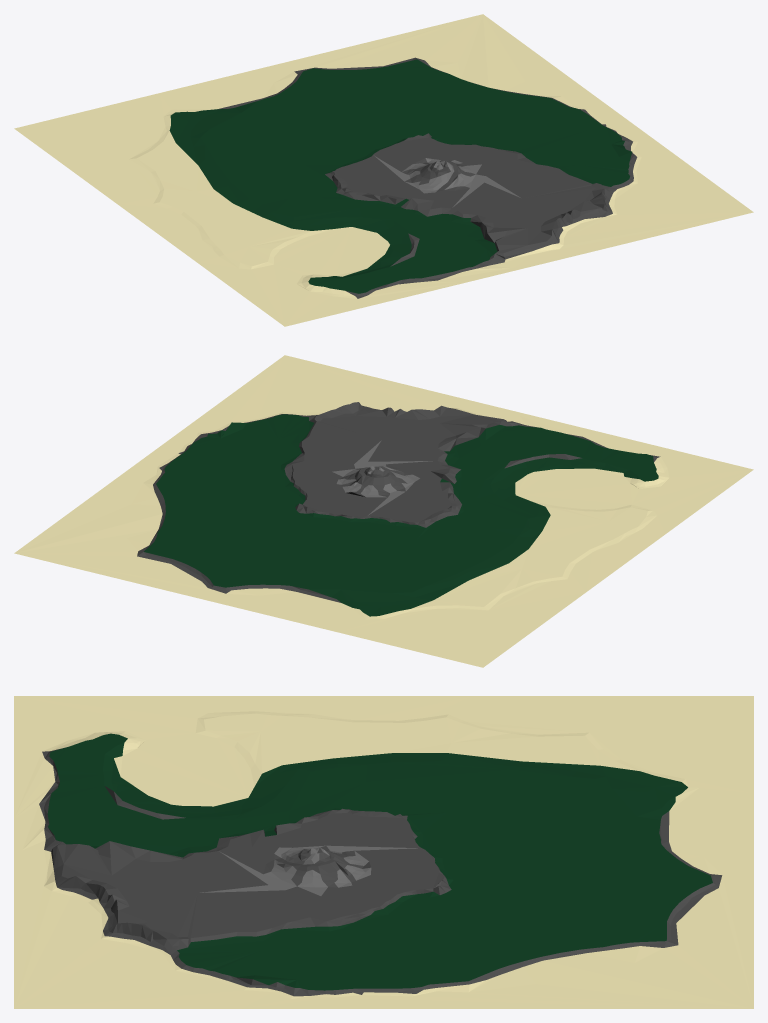
File: MainTerrain.fbx
The picture shows the model from 3 angles, top to bottom: view 1: azimuth 30°, elevation 25°; view 2: azimuth 150°, elevation 25°; view 3: azimuth 270°, elevation 25°; orthographic projection. The views are drawn at different scales.
Visible parts, largest first — view 1: Plane; view 2: Plane; view 3: Plane.
Boxes of the visible parts, x1=… form: Plane: x1=14, y1=14, x2=753, y2=326; Plane: x1=14, y1=355, x2=753, y2=667; Plane: x1=14, y1=696, x2=753, y2=1008.
Size of the model in its own units: 200000 by 7262 by 200000.
